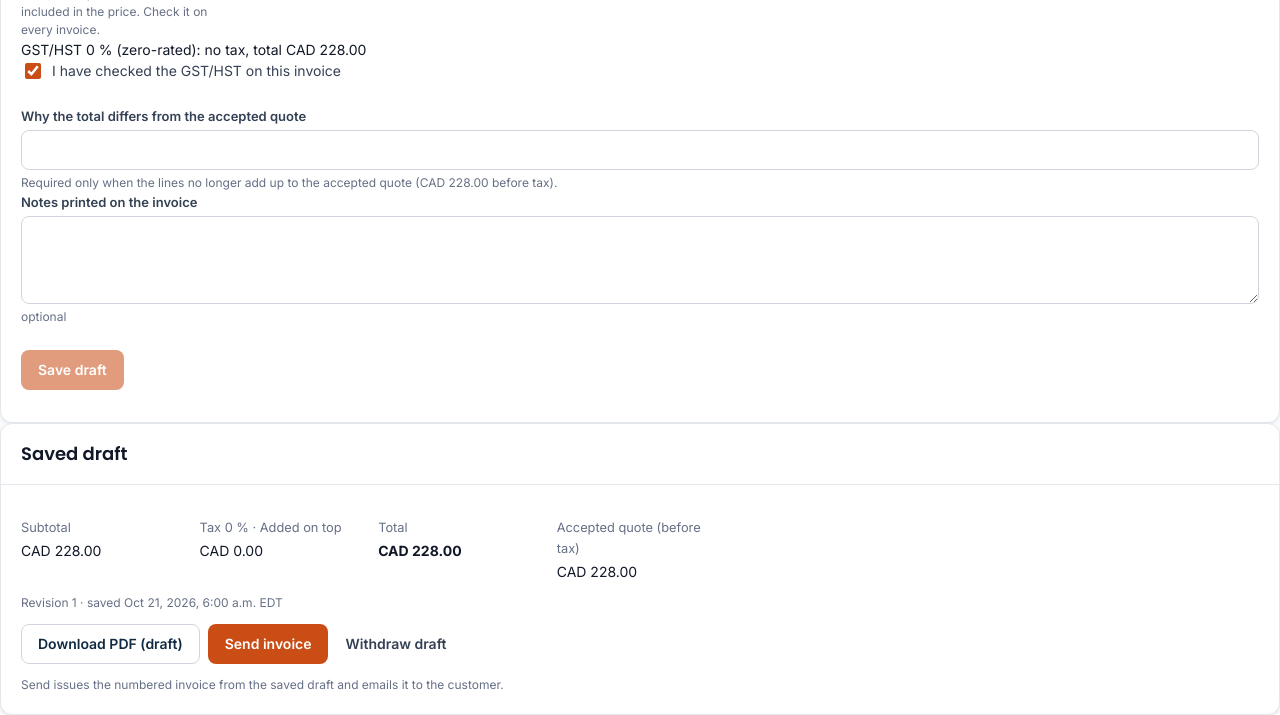
Test case: Draft invoice: unsaved edits › asks before sending: number assigned, total and the customer email
The width and height of the screenshot is (1280, 715).
(page scrolled)
Click the button "Send invoice" at {"x": 268, "y": 644}, box 208,624 -> 328,664
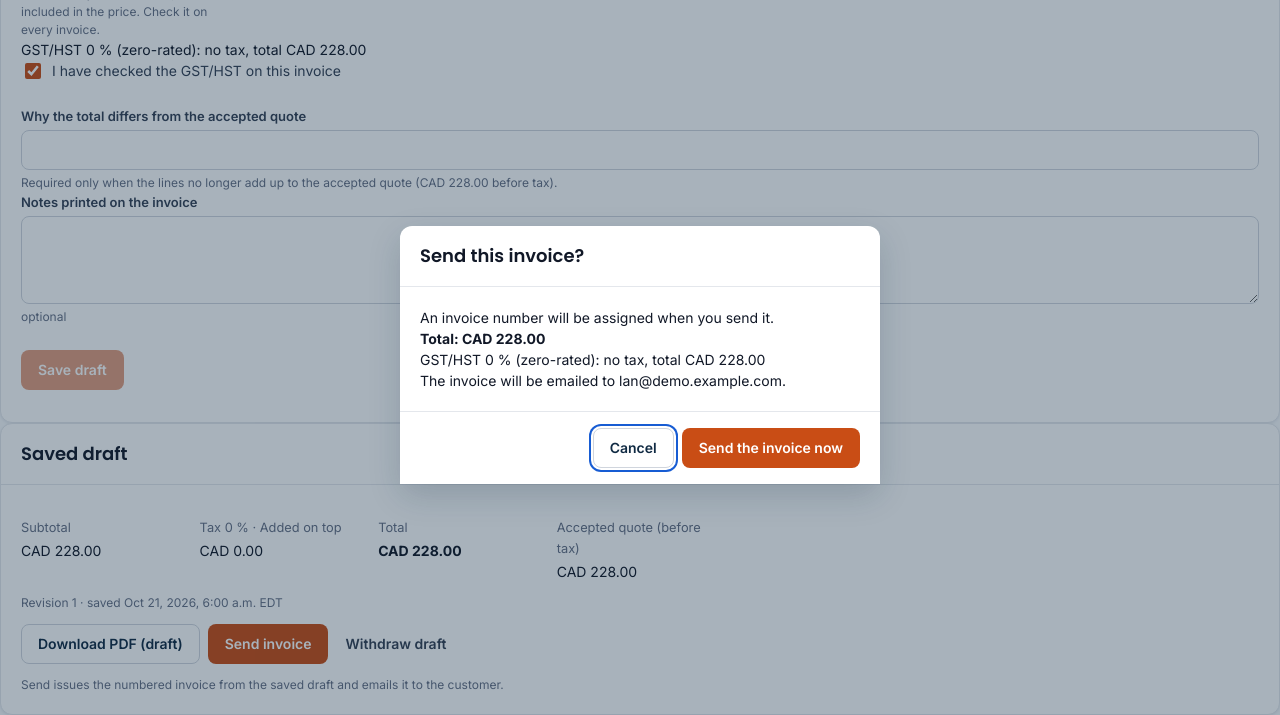
Now the text "An invoice number will be assigned when you send it." is shown, box 420,309 -> 774,326
Now the text "Total: CAD 228.00" is shown, box 420,330 -> 545,347
Now the text "The invoice will be emailed to lan@demo.example.com." is shown, box 420,372 -> 786,389
Click the button "Send the invoice now" at {"x": 771, "y": 448}, box 682,428 -> 860,468
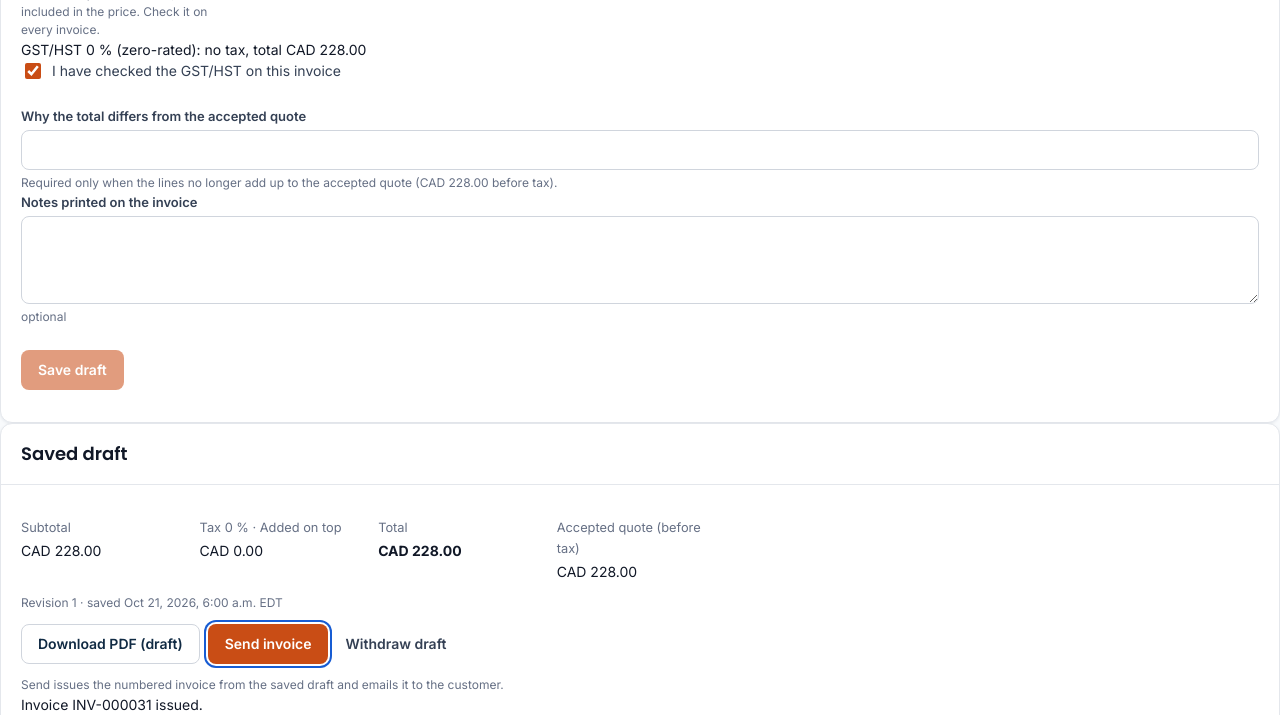
Now the text "Invoice INV-000031 issued." is shown, box 21,696 -> 203,713
